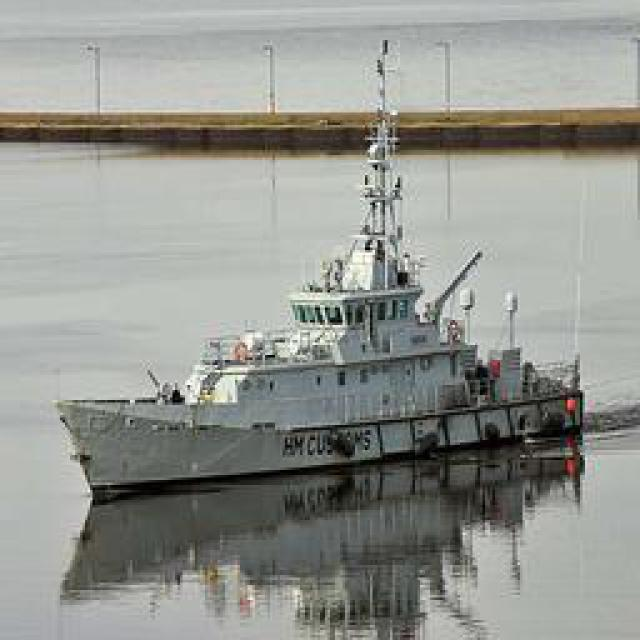Ship: (61, 85, 591, 500)
